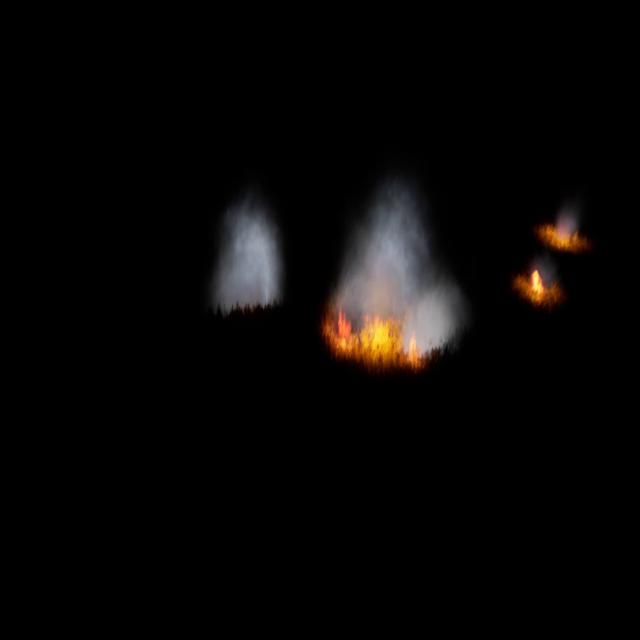fire: (322, 299, 425, 377), (532, 268, 545, 294)
smoke: (328, 175, 465, 357), (210, 184, 289, 316), (555, 189, 578, 247), (539, 251, 558, 294)
